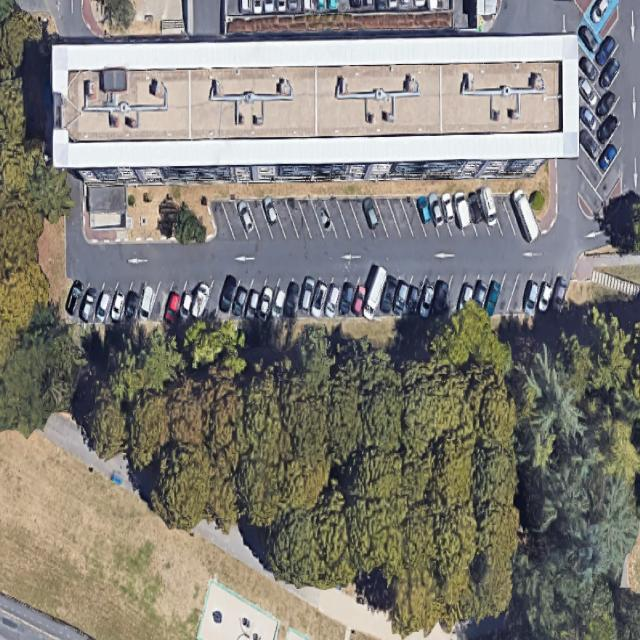immeuble: (51, 33, 584, 186)
